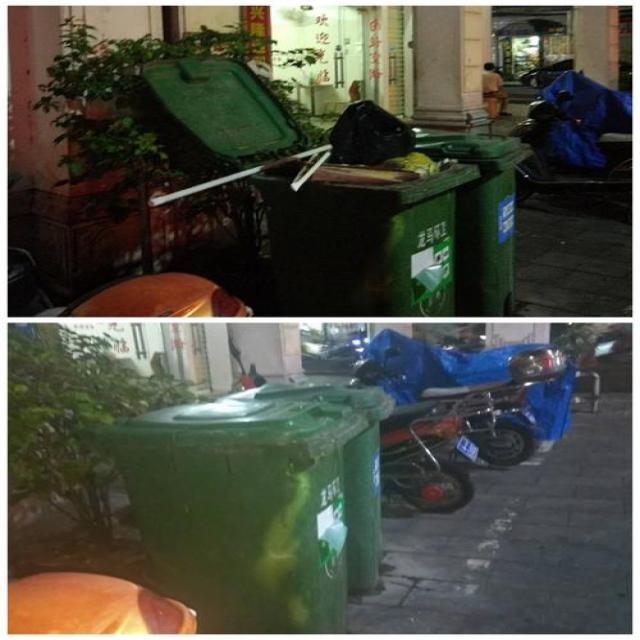garbage_bin: (83, 400, 365, 633), (215, 383, 396, 590), (410, 124, 531, 314)
overflow: (140, 100, 476, 315)
